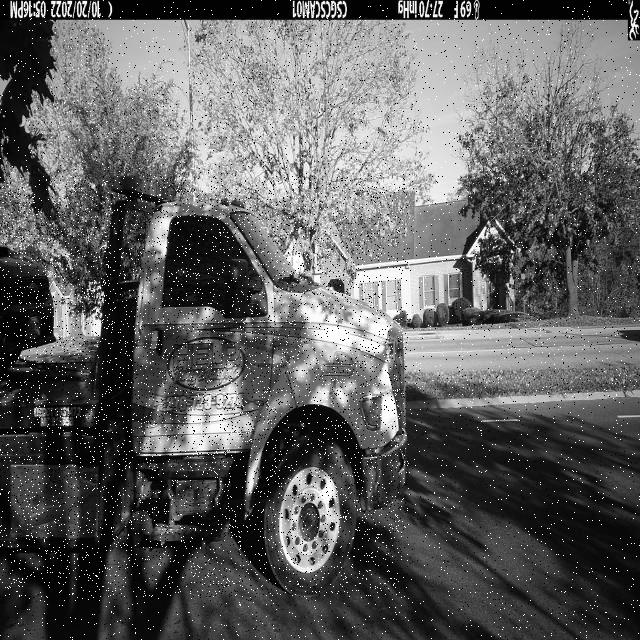Tow Truck: (0, 176, 408, 598)
